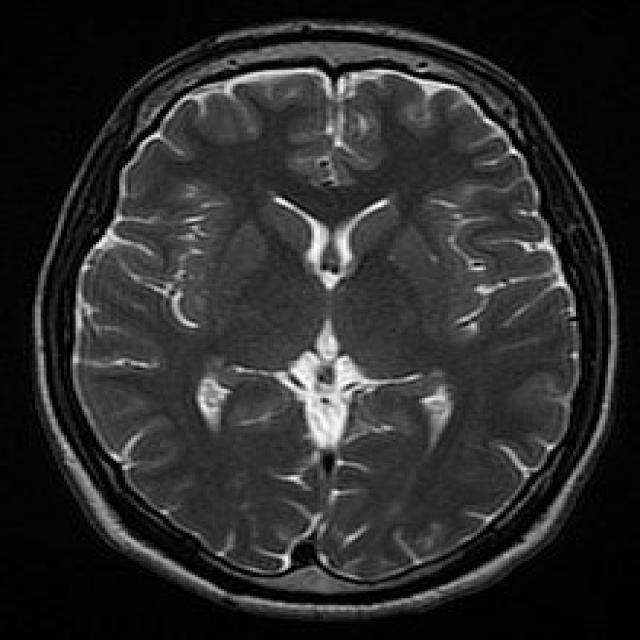No_Tumor: (35, 21, 617, 618)
